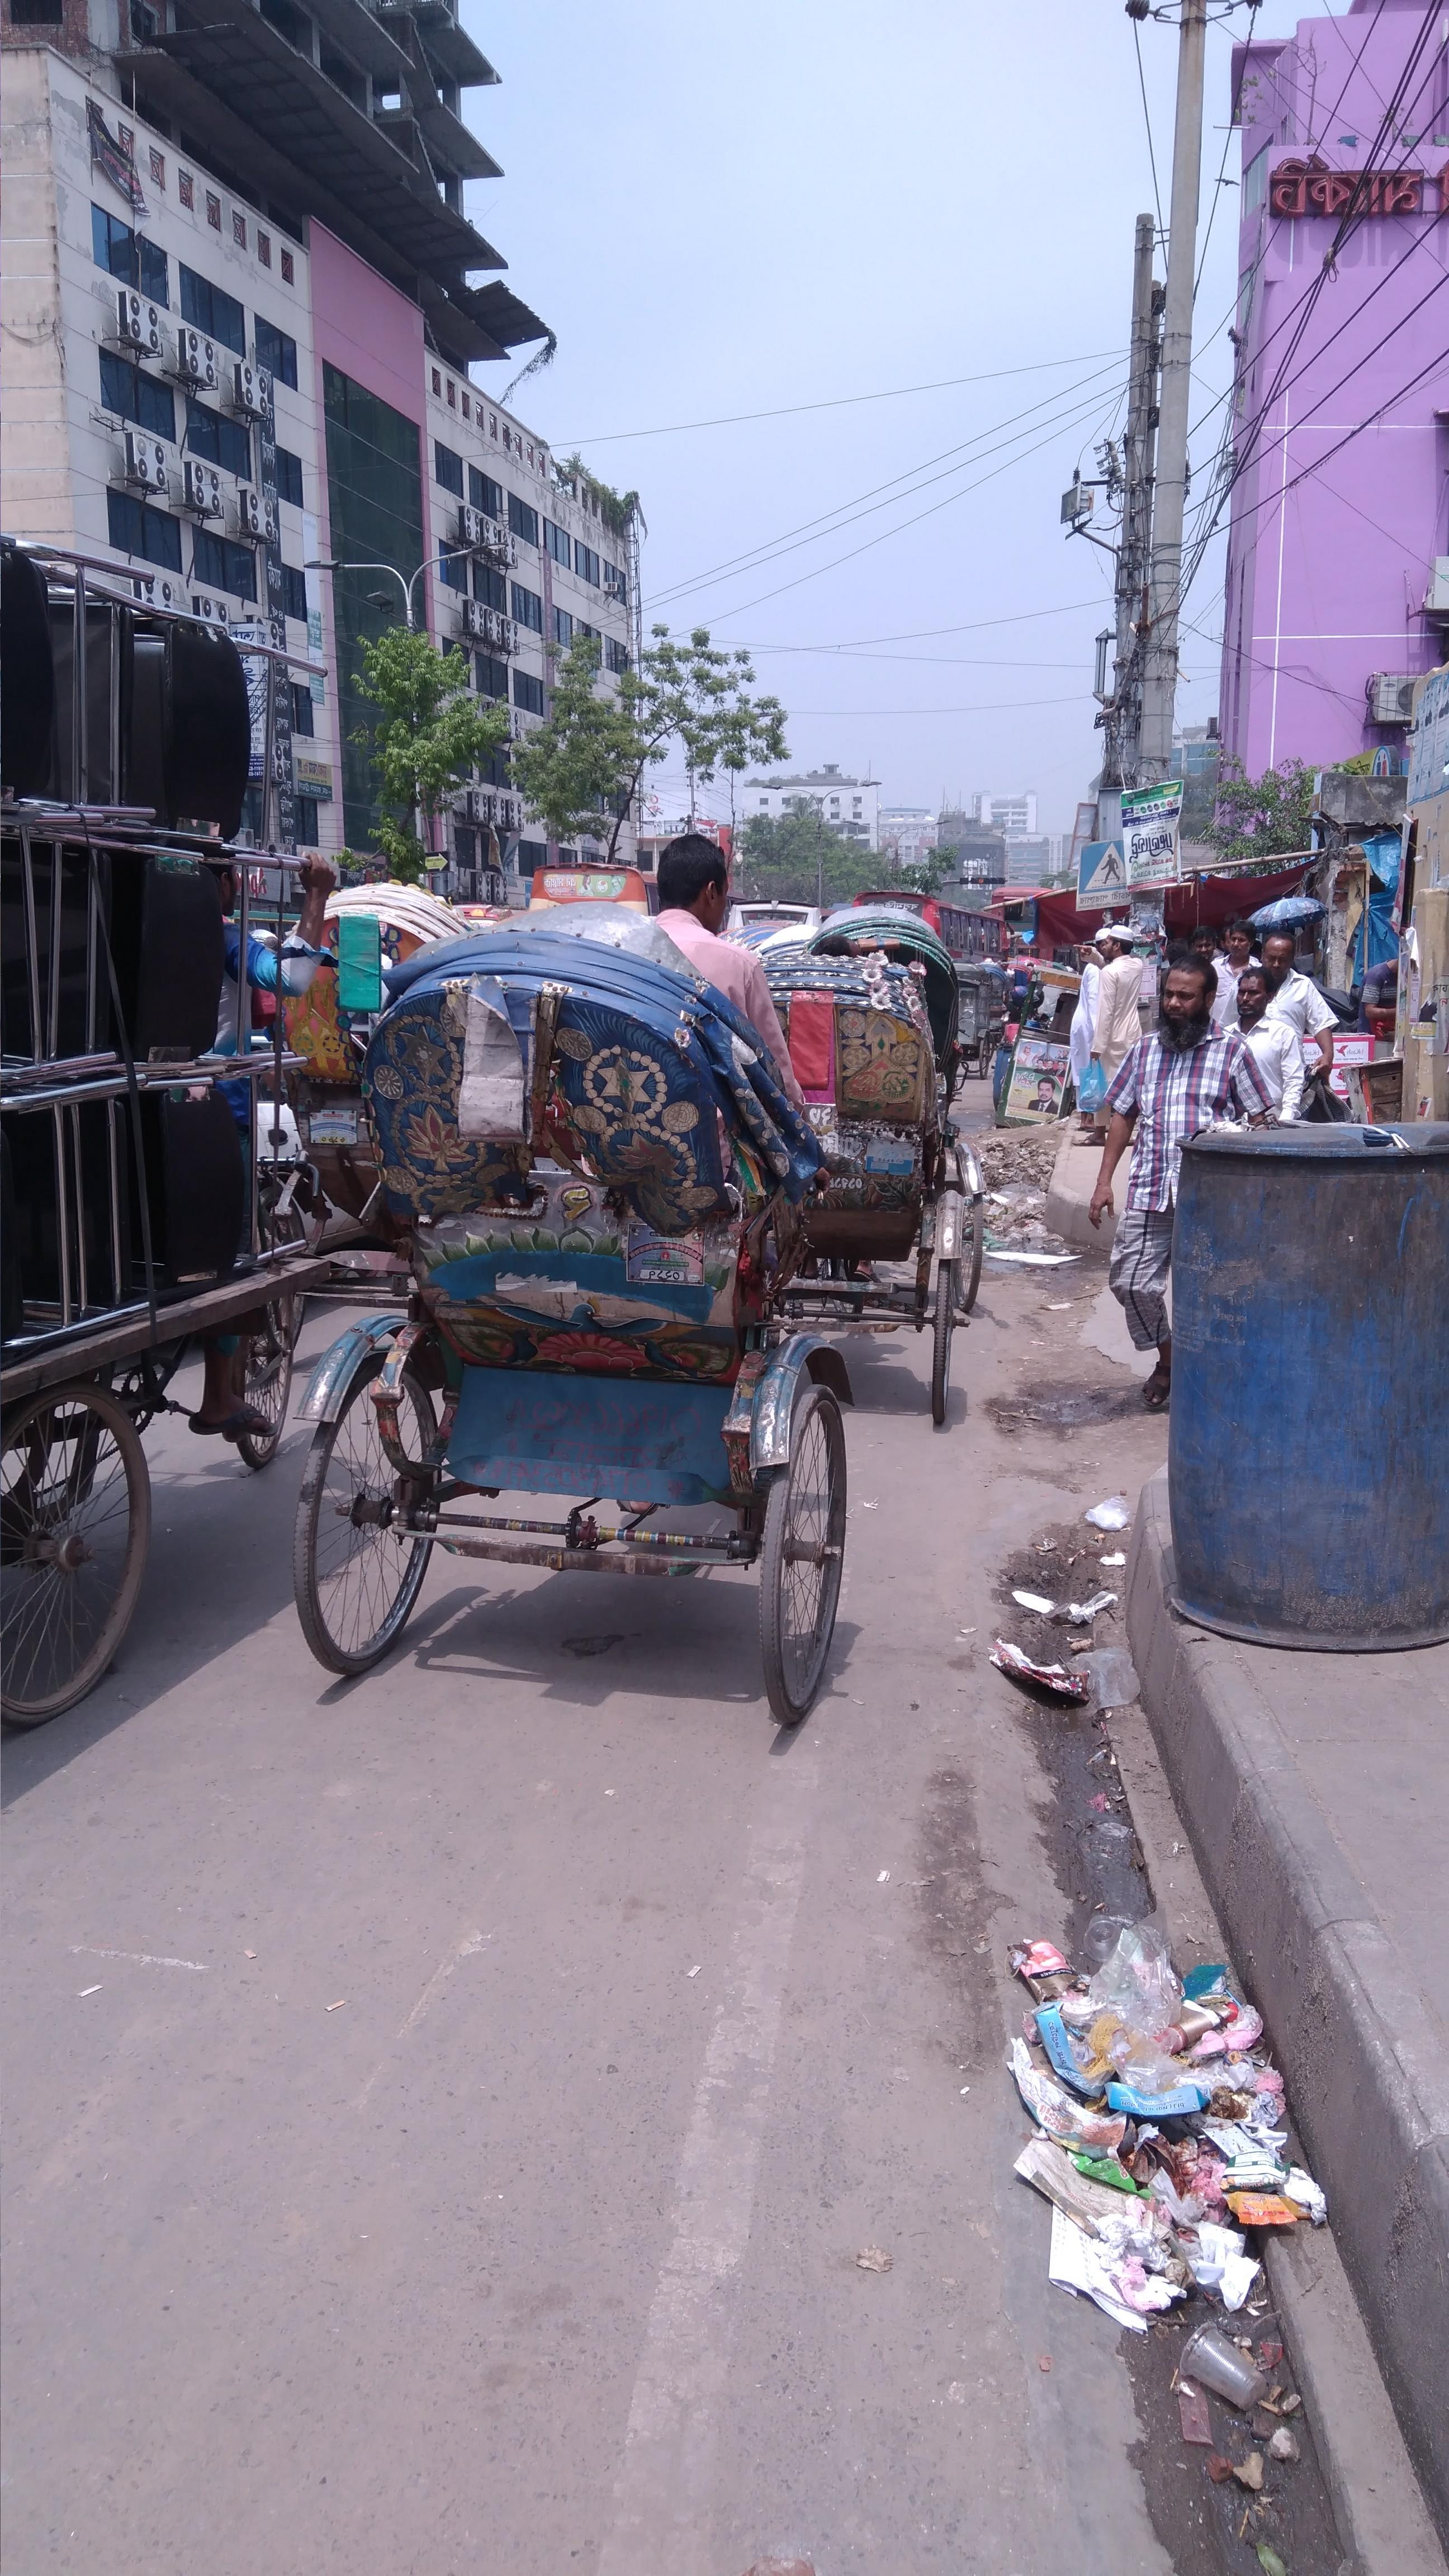Rickshaw: (338, 897, 856, 1711), (276, 835, 510, 1357), (755, 913, 996, 1419), (824, 858, 977, 1088)
